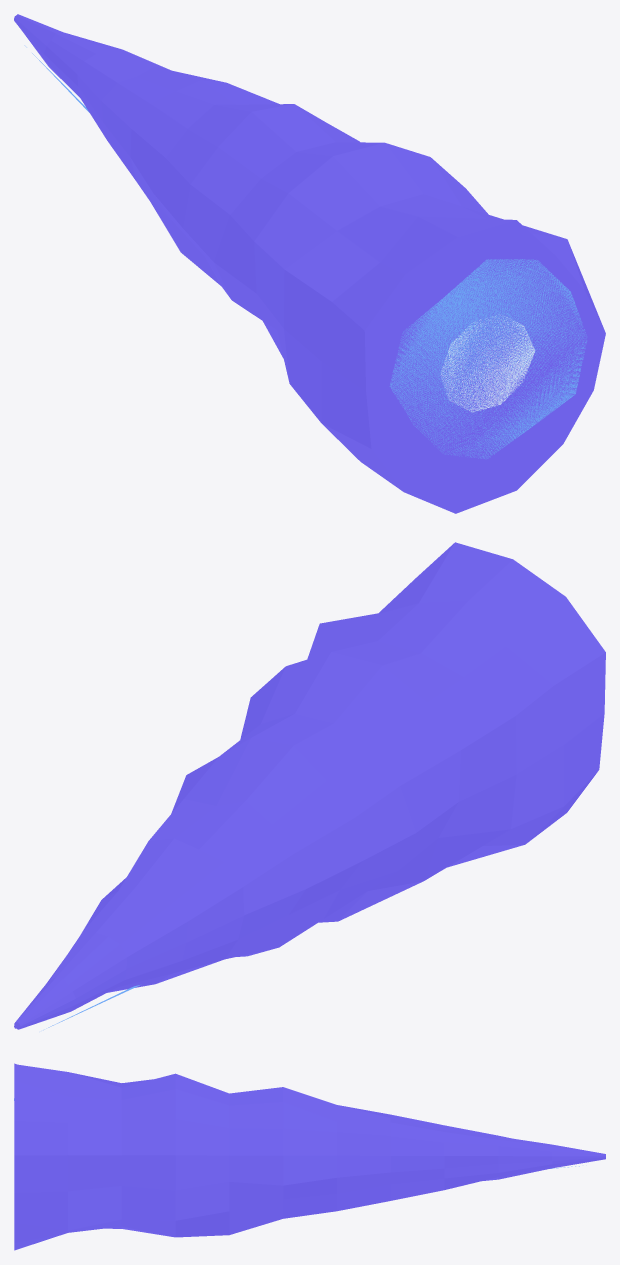
Rendered from rogue_tail.glb.
3 views of the same model, one above another, from view 1: azimuth 30°, elevation 25°; view 2: azimuth 150°, elevation 25°; view 3: azimuth 270°, elevation 25° (orthographic). The views are drawn at different scales.
Visible parts, largest first — view 1: rogue_tail; view 2: rogue_tail; view 3: rogue_tail.
Part boxes in pixels (box(x1,y1,x2,y2)): rogue_tail: box(14, 14, 605, 513); rogue_tail: box(14, 542, 605, 1030); rogue_tail: box(14, 1063, 605, 1250).
Size of the model in its own units: 2.12 by 2.29 by 7.
